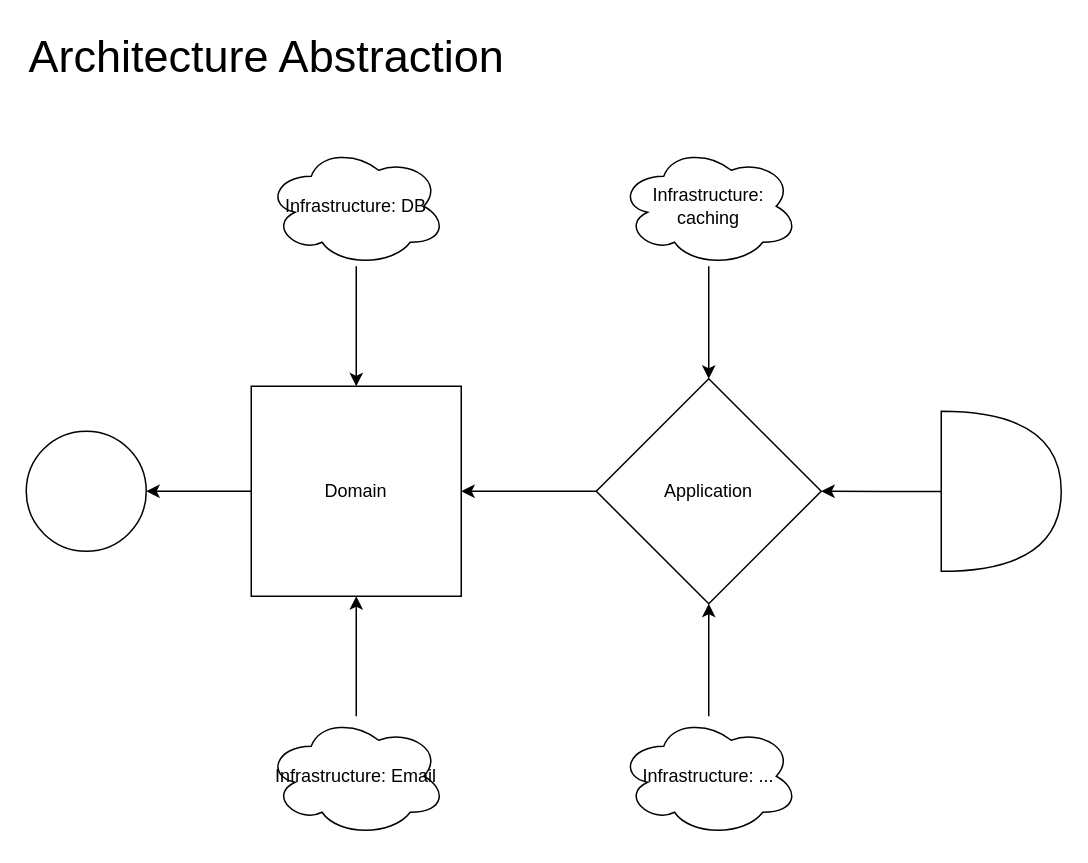
The diagram is 1088 pixels wide and 863 high, and some of its shapes have lost their labels. Each missing label, with the centre of its shape:
API: (1000,490)
Core: (85,490)
